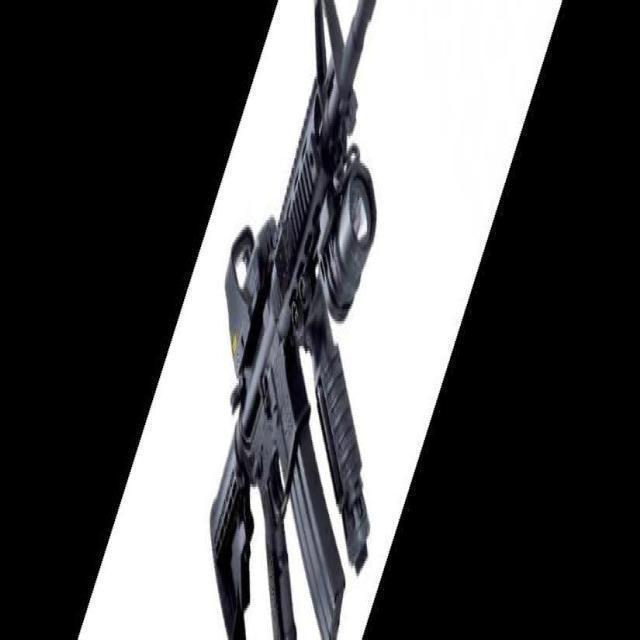Rifle: (208, 0, 378, 640)
